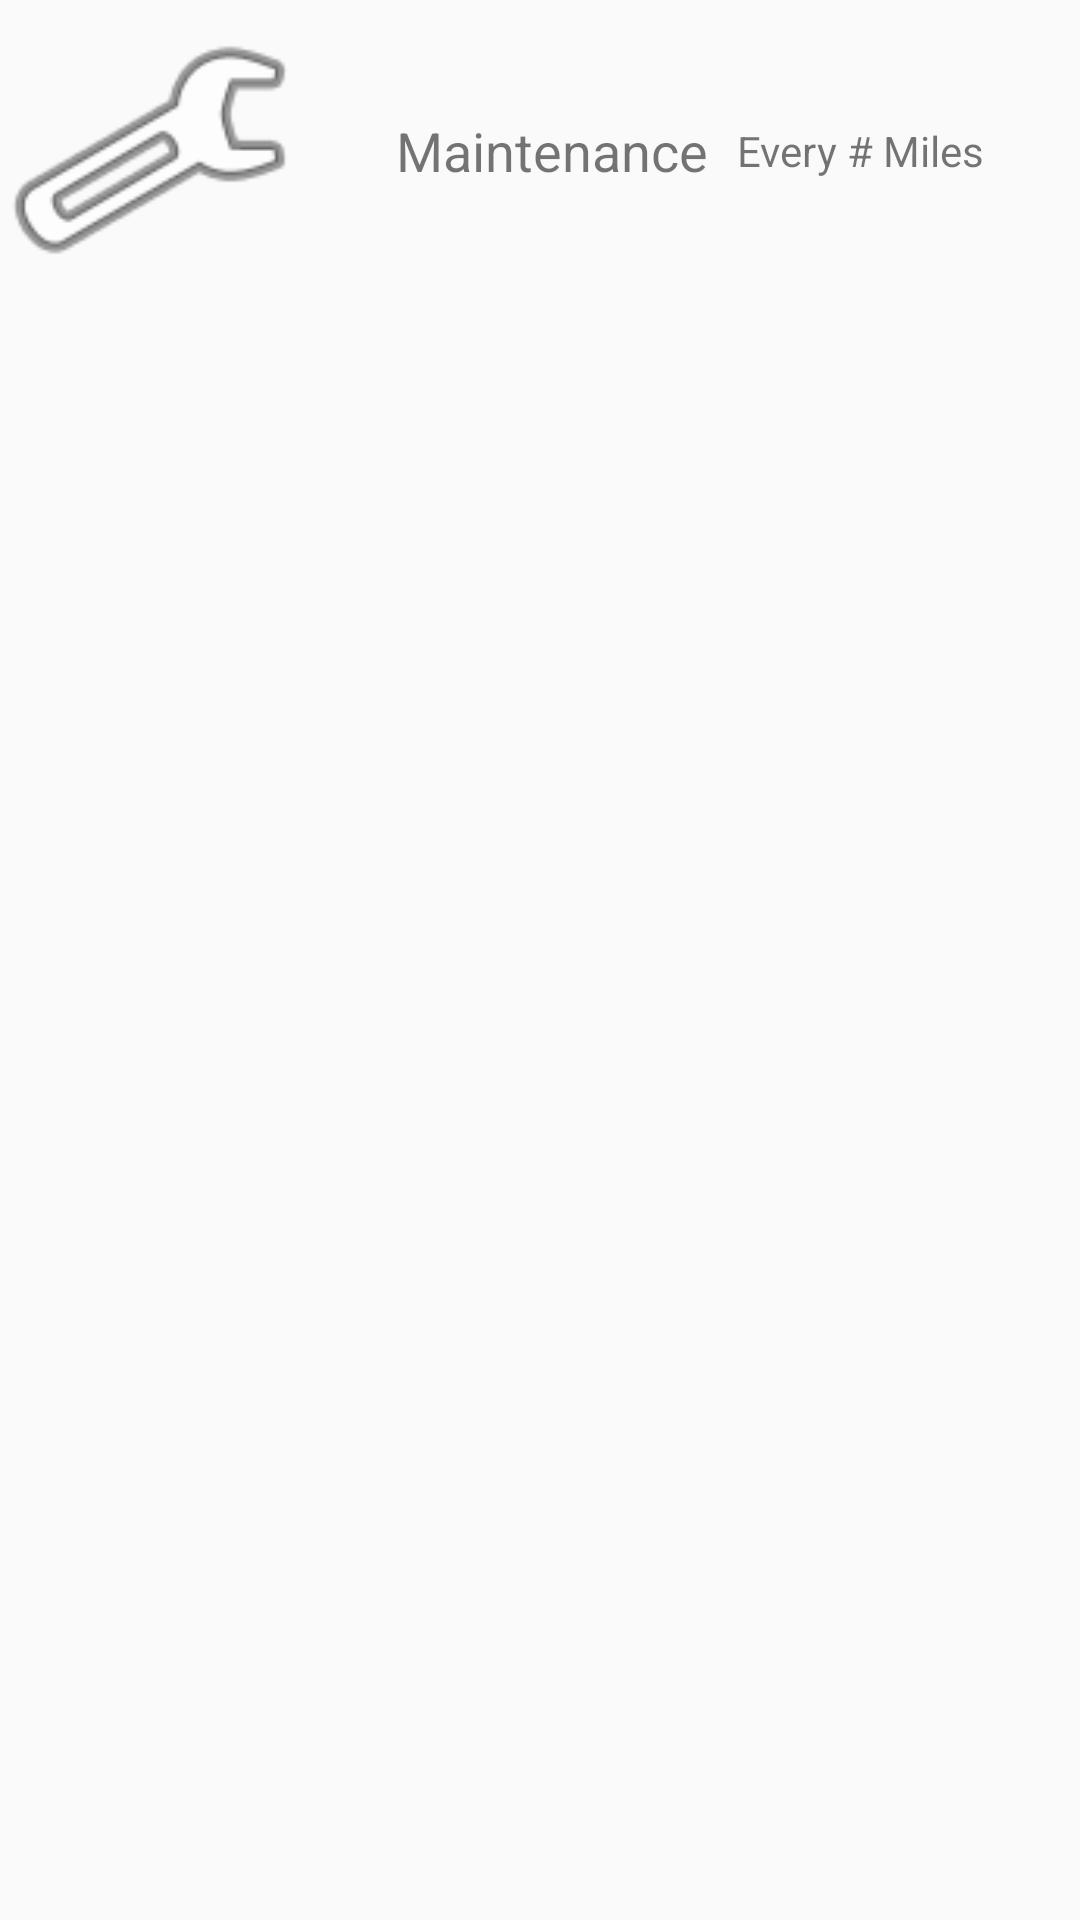

Icons on this 1080 x 1920 Android screen, each with its box as {"x1": x1, "y1": y1, "x2": x2, "y2": y2}:
preferences: {"x1": 14, "y1": 46, "x2": 285, "y2": 254}
